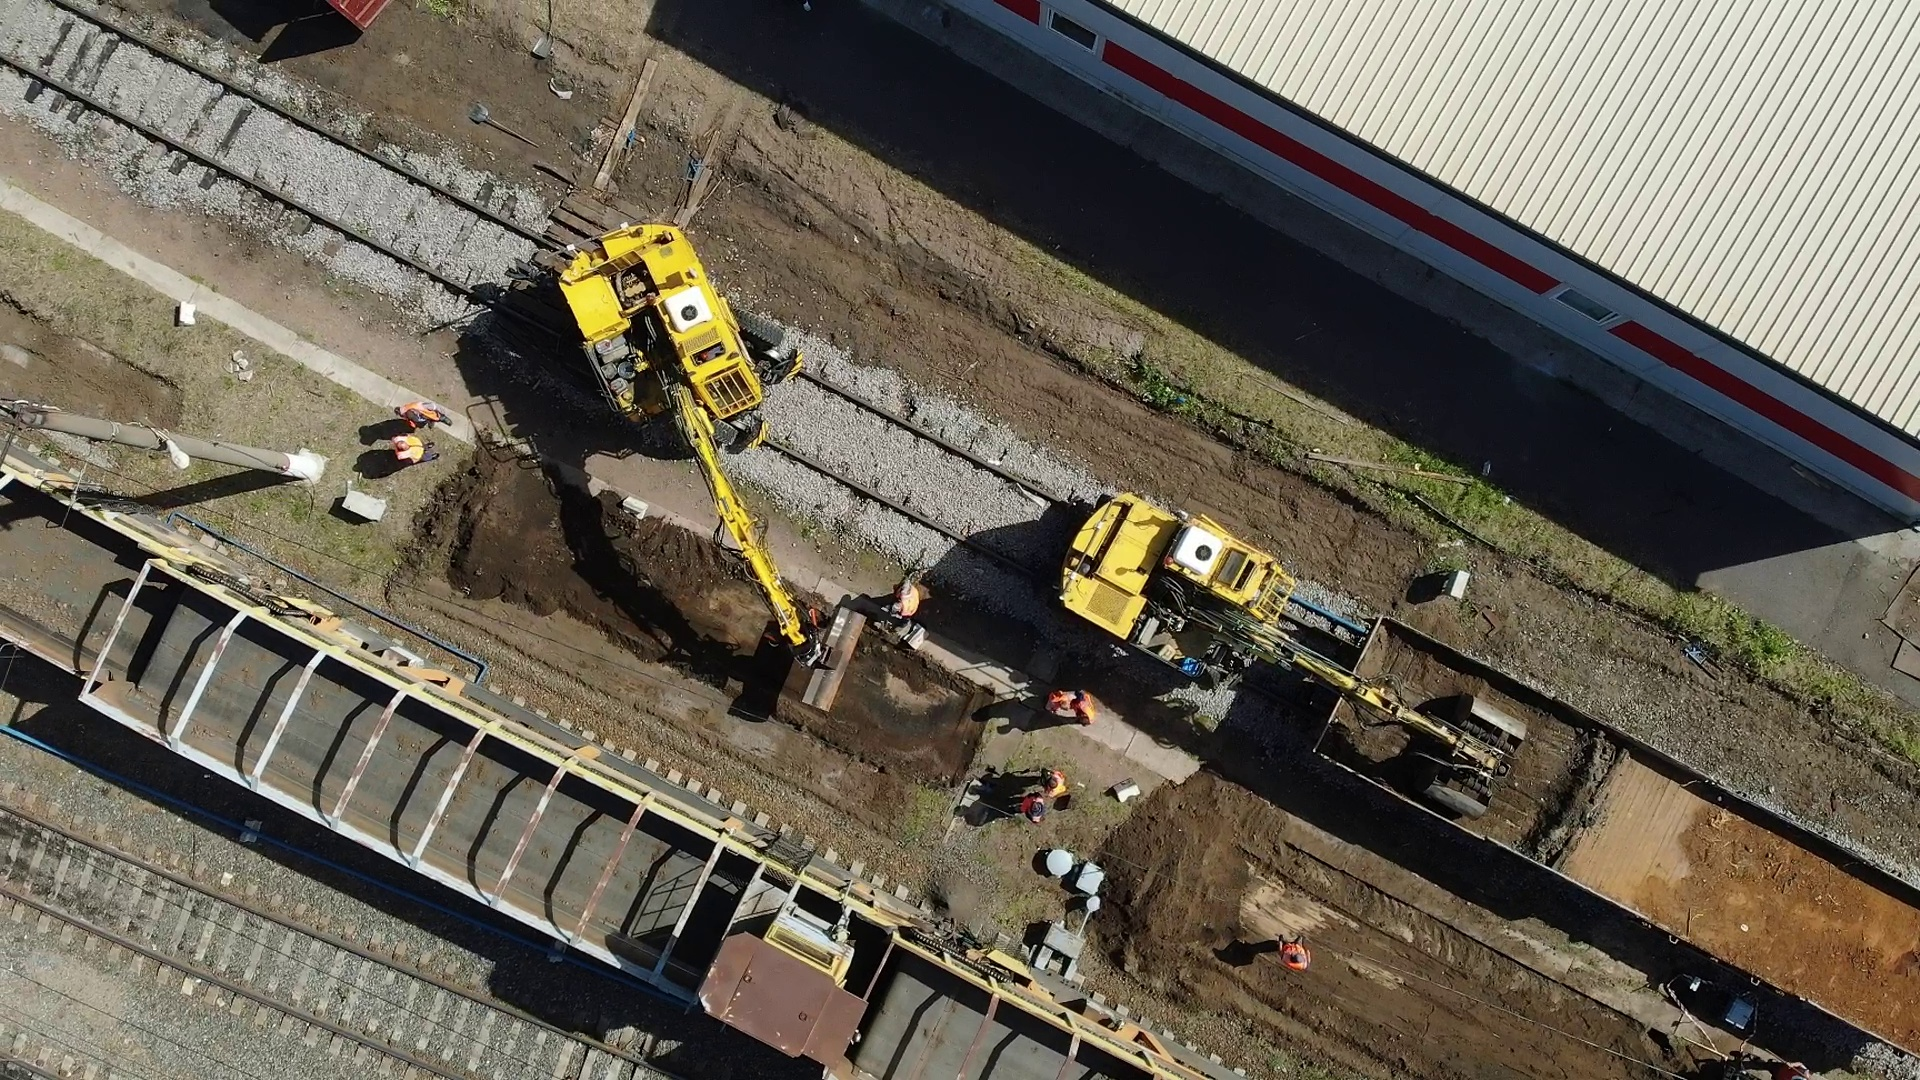kjtv: (534, 229, 802, 516), (1052, 496, 1379, 727)
